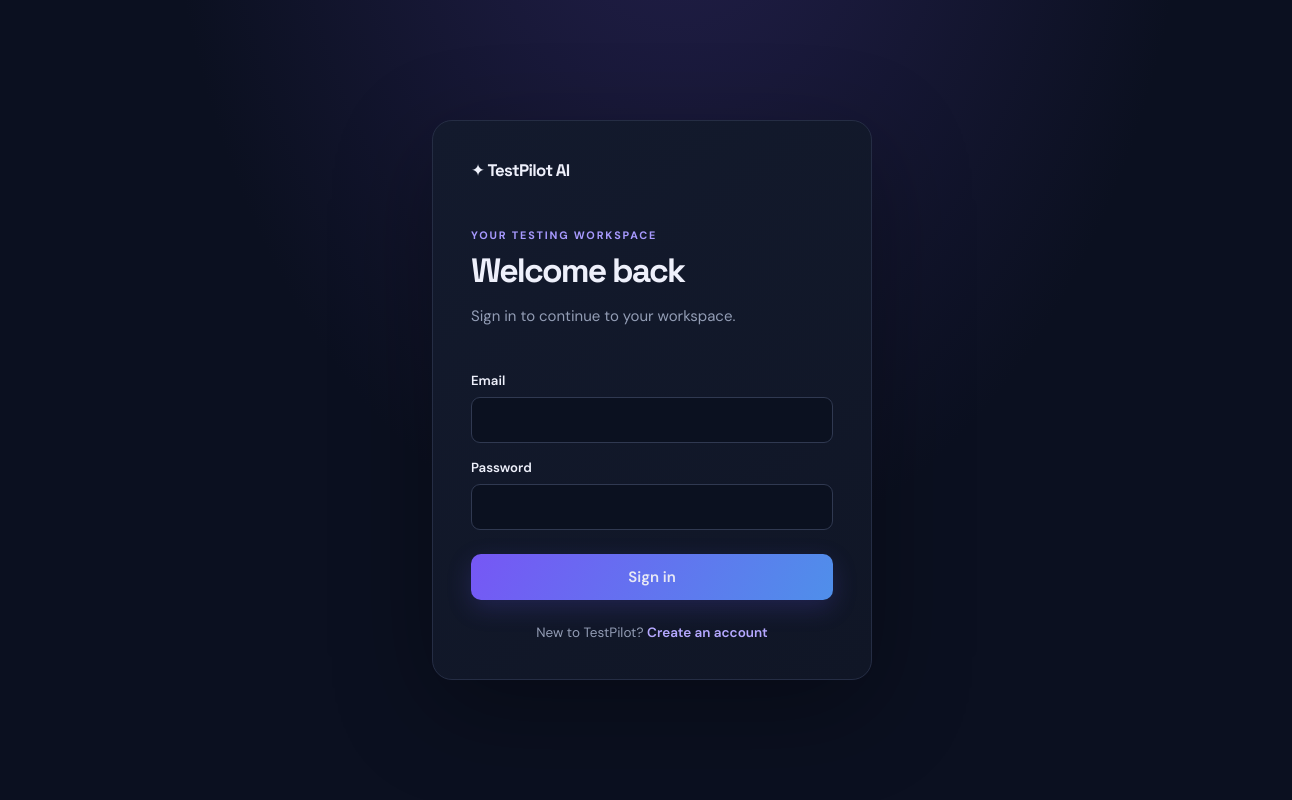
Test: LoginPage › submits credentials through auth state and navigates to the workspace
This screenshot has width=1292, height=800.
Type "ada@example.com" into the field labelled "Email". click: (652, 420)
box: [471,397,833,443]
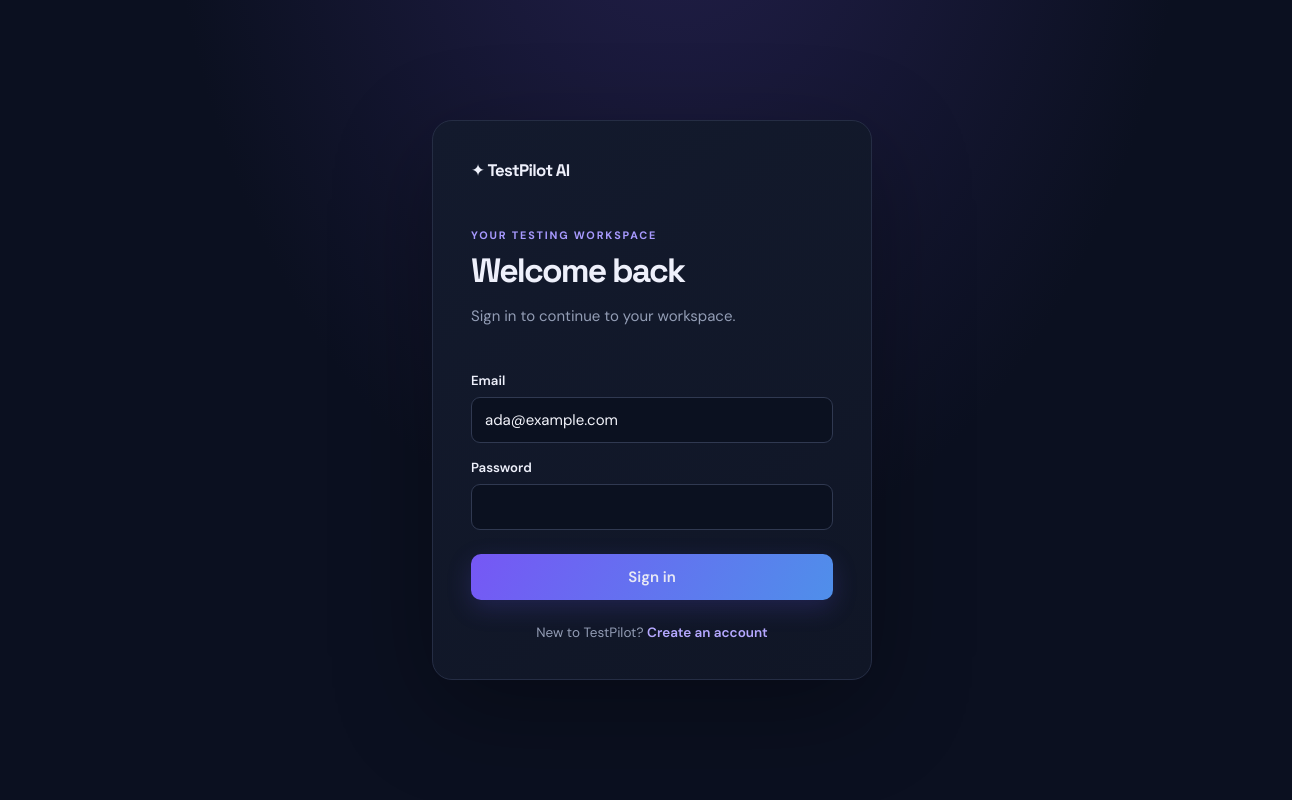
Type "SecurePassWord123" into the password field labelled "Password". click: (652, 507)
box: [471,484,833,530]
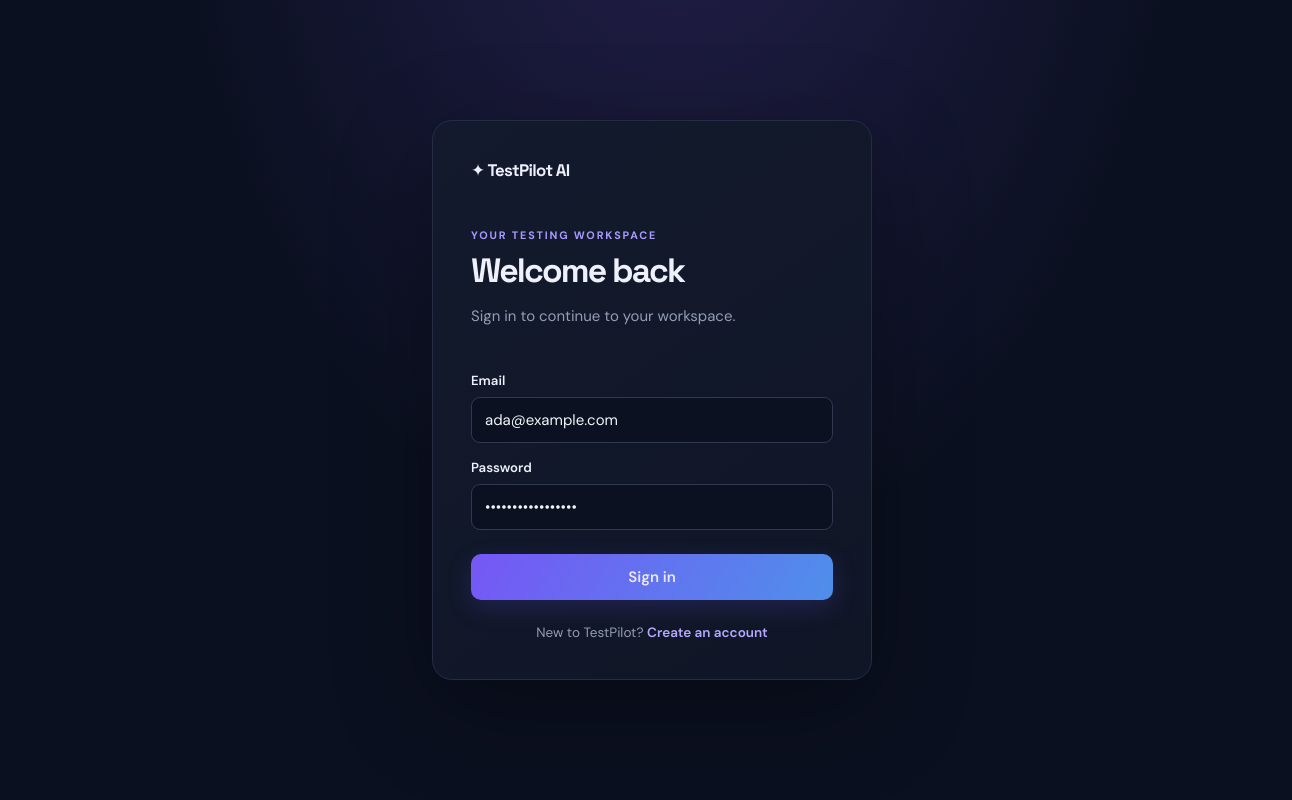
Click the button "Sign in". click: (652, 577)
box: [471,554,833,600]
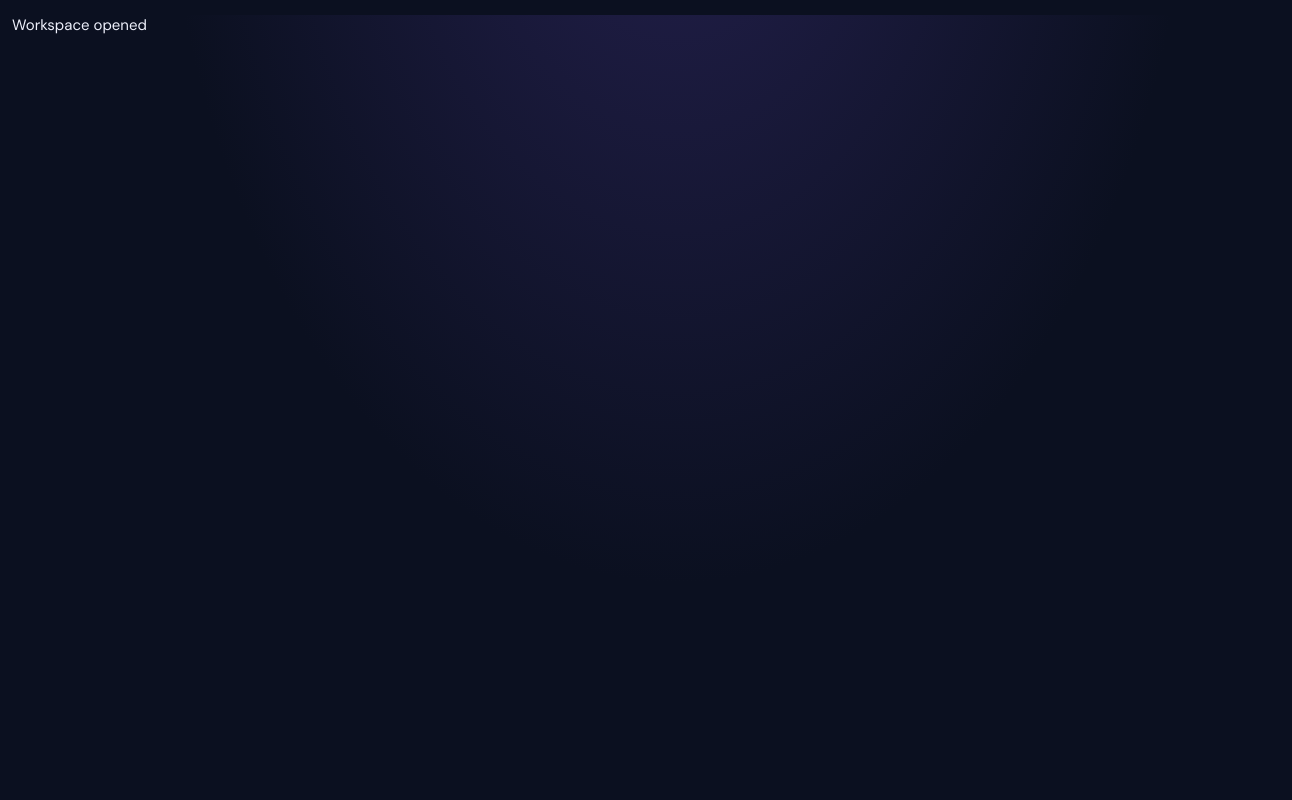
Check: the text "Workspace opened" is shown, box [12,15,147,35]
